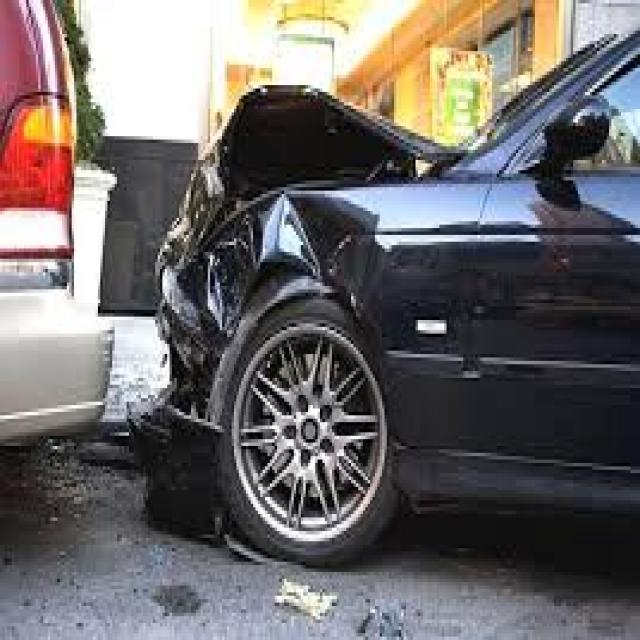moderate: (133, 144, 411, 522)
